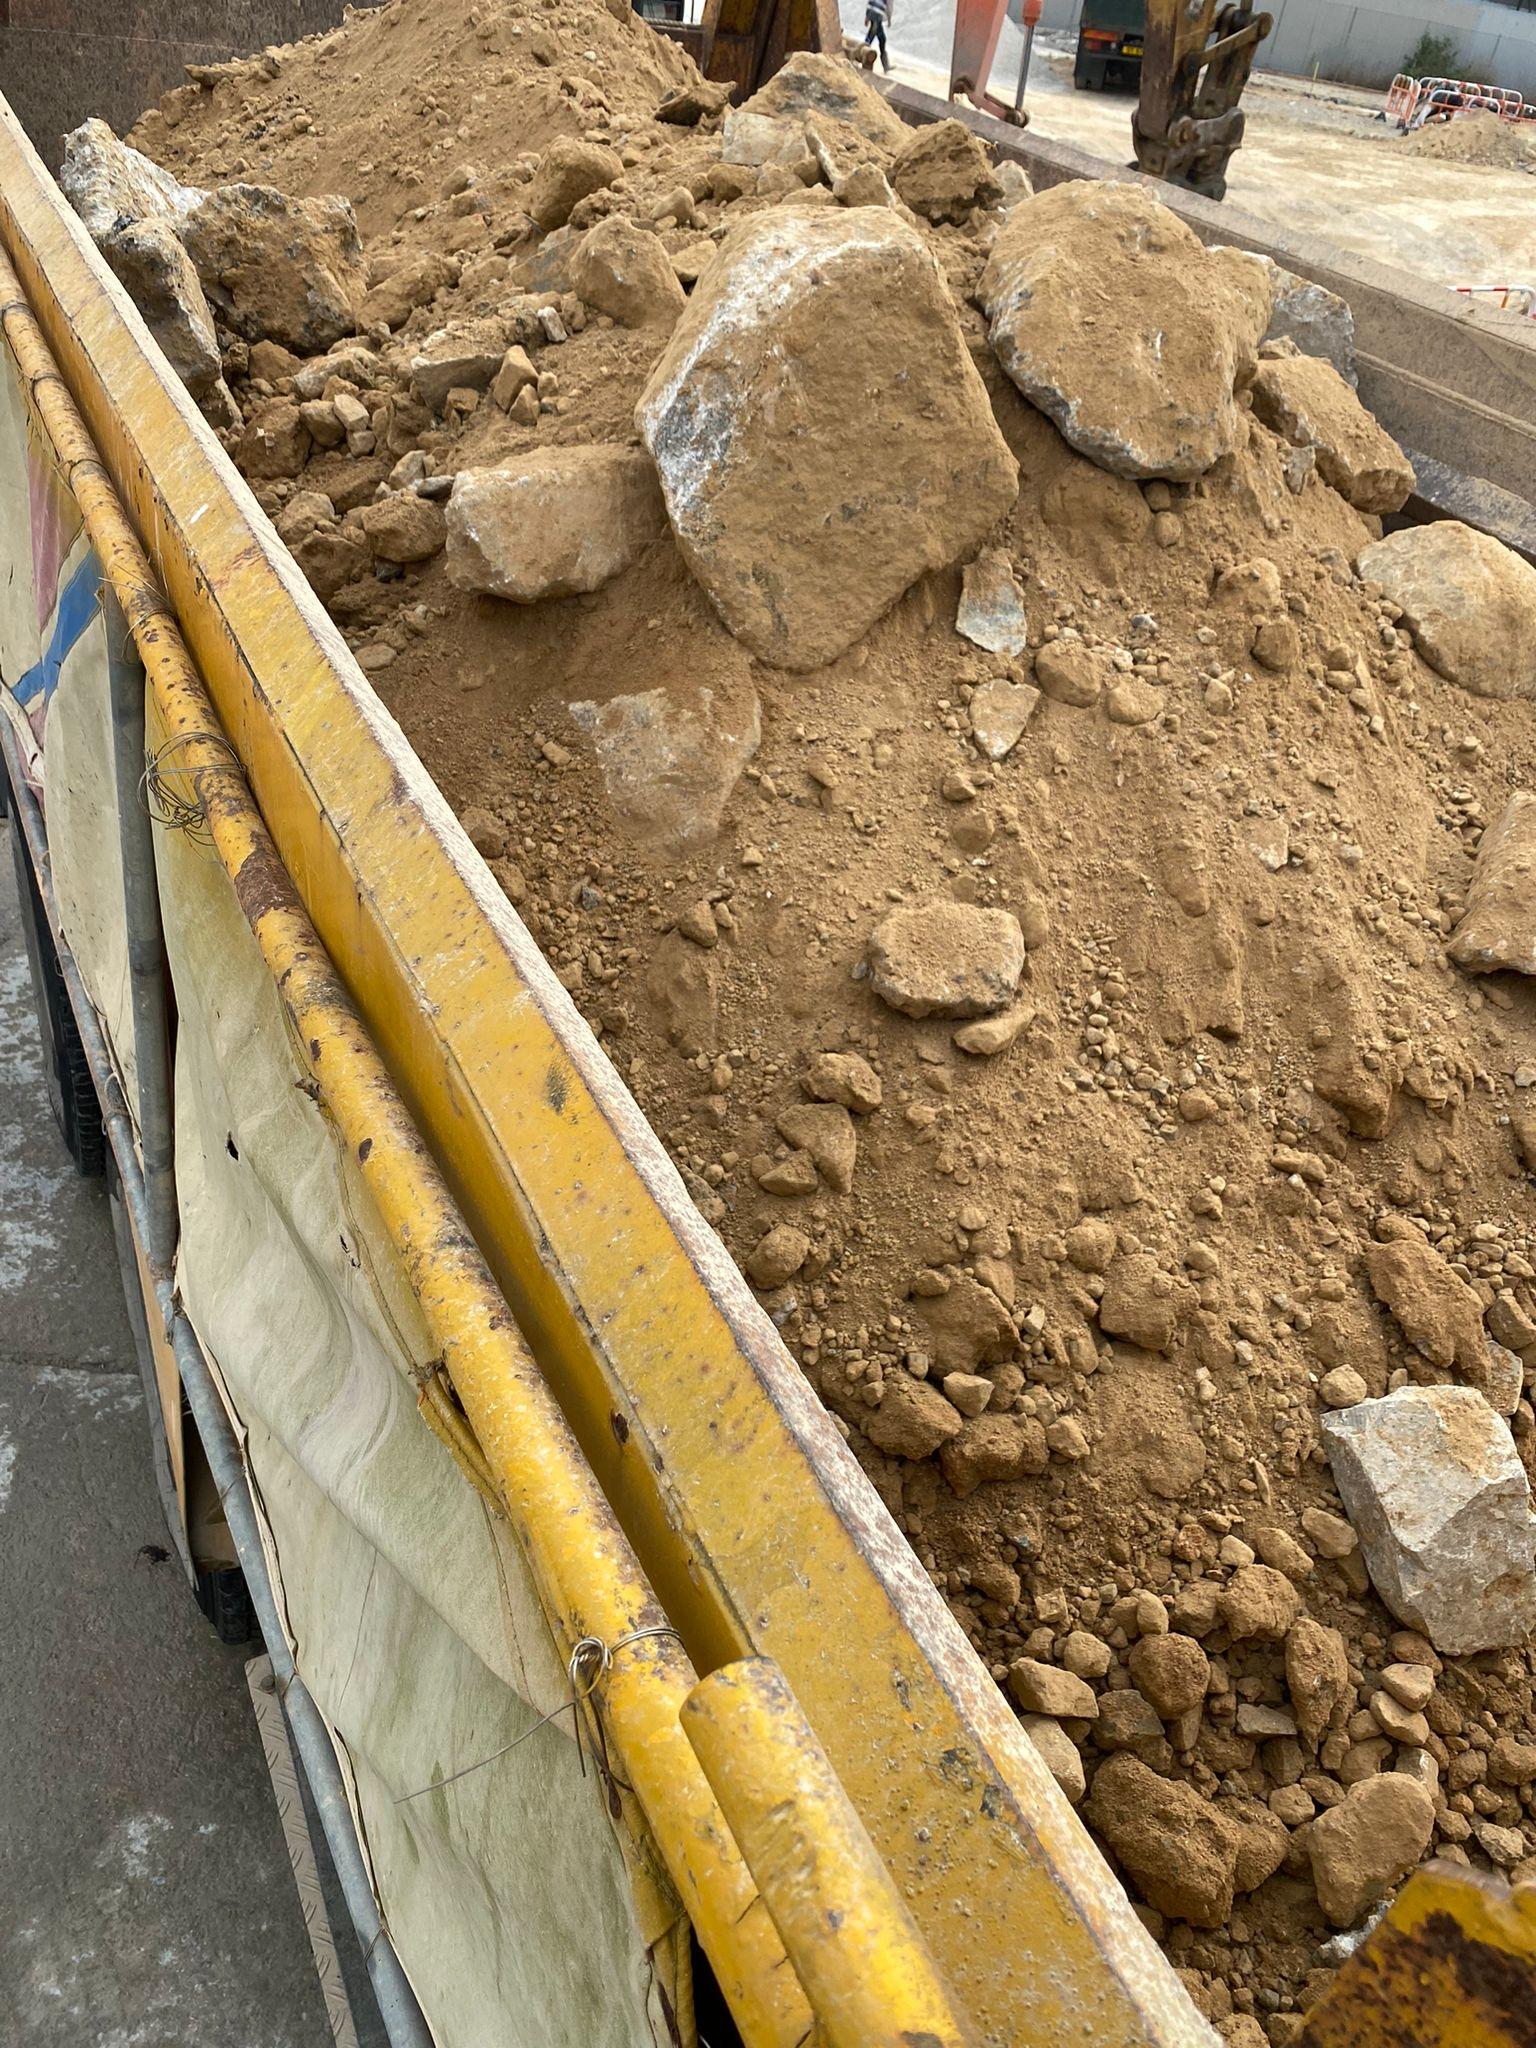dry: (131, 23, 1536, 2021)
